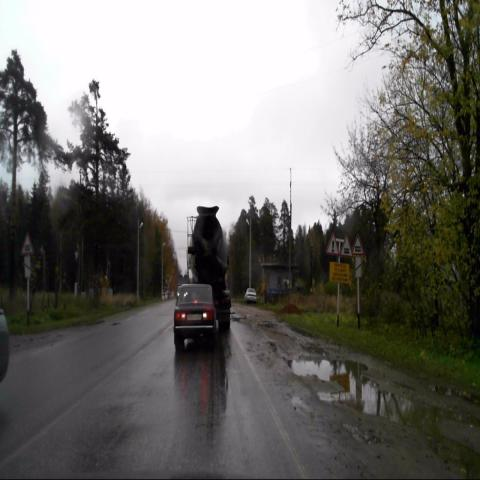1_1: (340, 232, 354, 258), (352, 234, 364, 256)
1_33: (326, 232, 340, 257)
